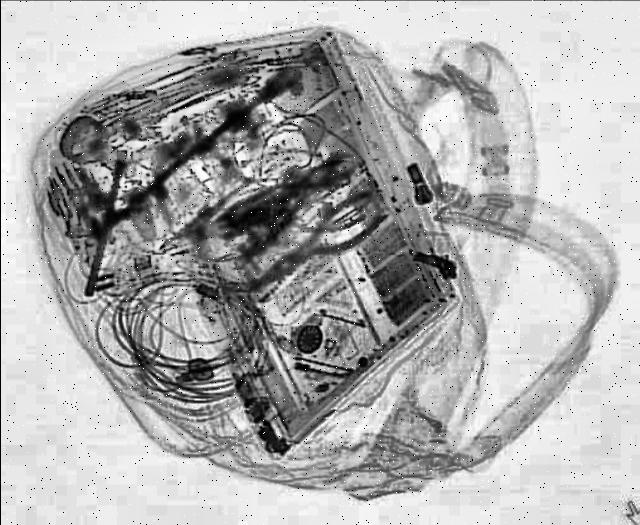Pliers: (238, 189, 400, 305)
